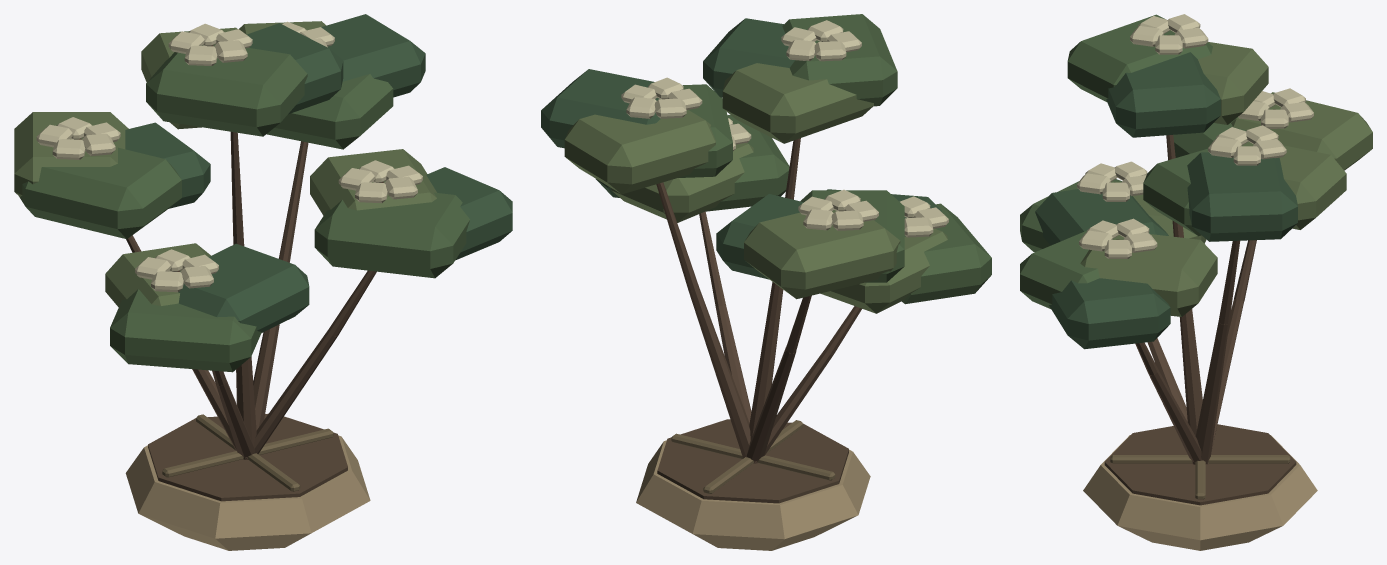
Rendered from elderberry_packed_summer.glb.
The picture shows the model from 3 angles, left to right: view 1: azimuth 30°, elevation 25°; view 2: azimuth 150°, elevation 25°; view 3: azimuth 270°, elevation 25°; orthographic projection. The views are drawn at different scales.
Parts seen in each view (by area): view 1: elderberry_packed_summer; view 2: elderberry_packed_summer; view 3: elderberry_packed_summer.
Part boxes in pixels (<box>): elderberry_packed_summer: <box>14,14,512,550</box>; elderberry_packed_summer: <box>541,14,991,550</box>; elderberry_packed_summer: <box>1020,14,1372,550</box>.
Bounding box in the file's own units: 2.16 × 2.65 × 1.8.
